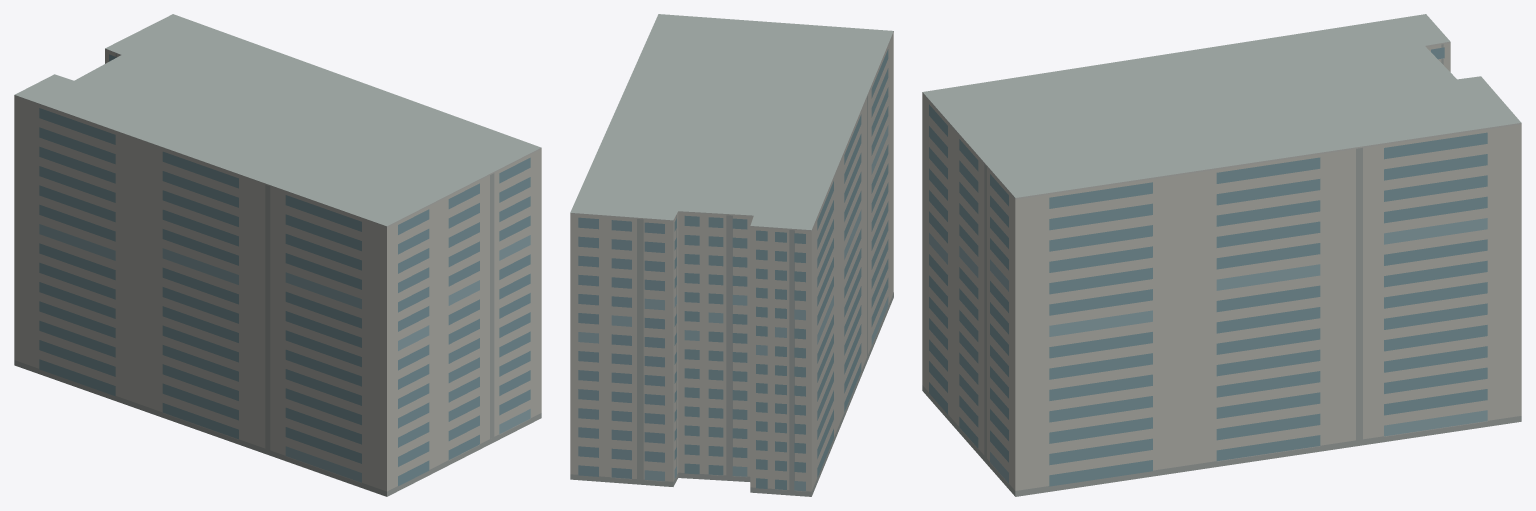
The model's file is survey-upis-32769756.glb.
The picture shows the model from 3 angles, left to right: view 1: azimuth 30°, elevation 25°; view 2: azimuth 150°, elevation 25°; view 3: azimuth 270°, elevation 25°; orthographic projection. The views are drawn at different scales.
Parts seen in each view (by area): view 1: survey-upis-32769756.tmp; view 2: survey-upis-32769756.tmp; view 3: survey-upis-32769756.tmp.
Part boxes in pixels (<box>): survey-upis-32769756.tmp: <box>14,14,541,496</box>; survey-upis-32769756.tmp: <box>570,14,893,496</box>; survey-upis-32769756.tmp: <box>922,14,1521,496</box>.
Size of the model in its own units: 69.7 by 52.8 by 95.89.
